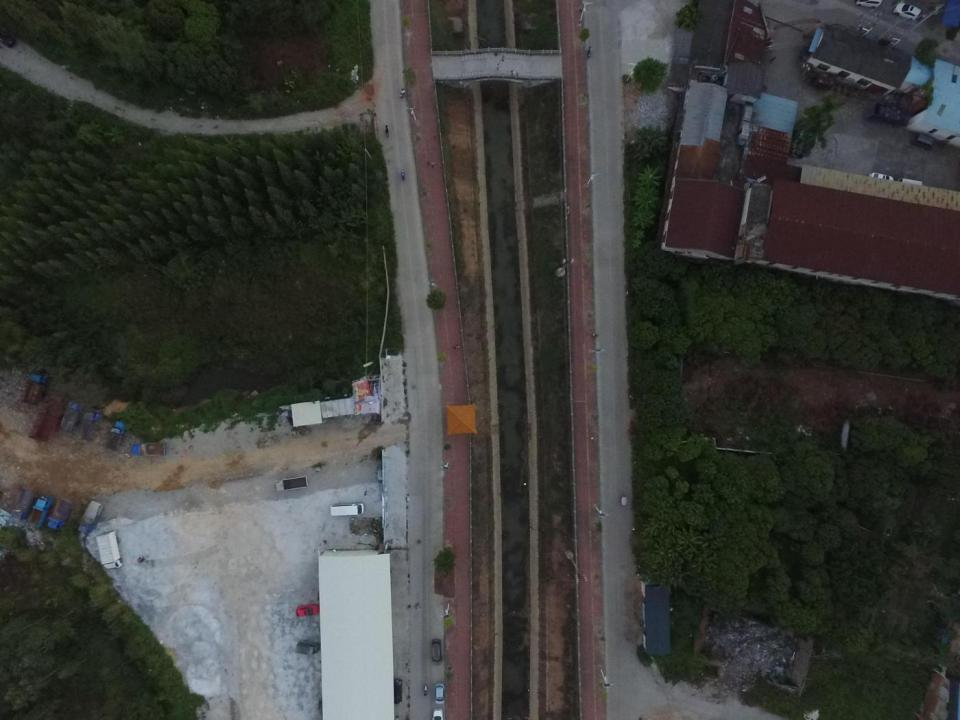car: (894, 2, 922, 21), (294, 640, 320, 657), (295, 602, 321, 618), (868, 171, 894, 184), (431, 638, 442, 666), (434, 682, 446, 706), (432, 708, 444, 720)
truck: (28, 392, 57, 443), (78, 498, 104, 542), (95, 530, 123, 570), (47, 497, 73, 531), (27, 495, 52, 530), (21, 371, 47, 404), (58, 399, 82, 432), (12, 488, 34, 522), (80, 408, 100, 442), (105, 420, 127, 450), (131, 441, 168, 457), (273, 476, 308, 492)
van: (330, 502, 365, 516), (897, 176, 925, 189), (857, 0, 883, 8)
